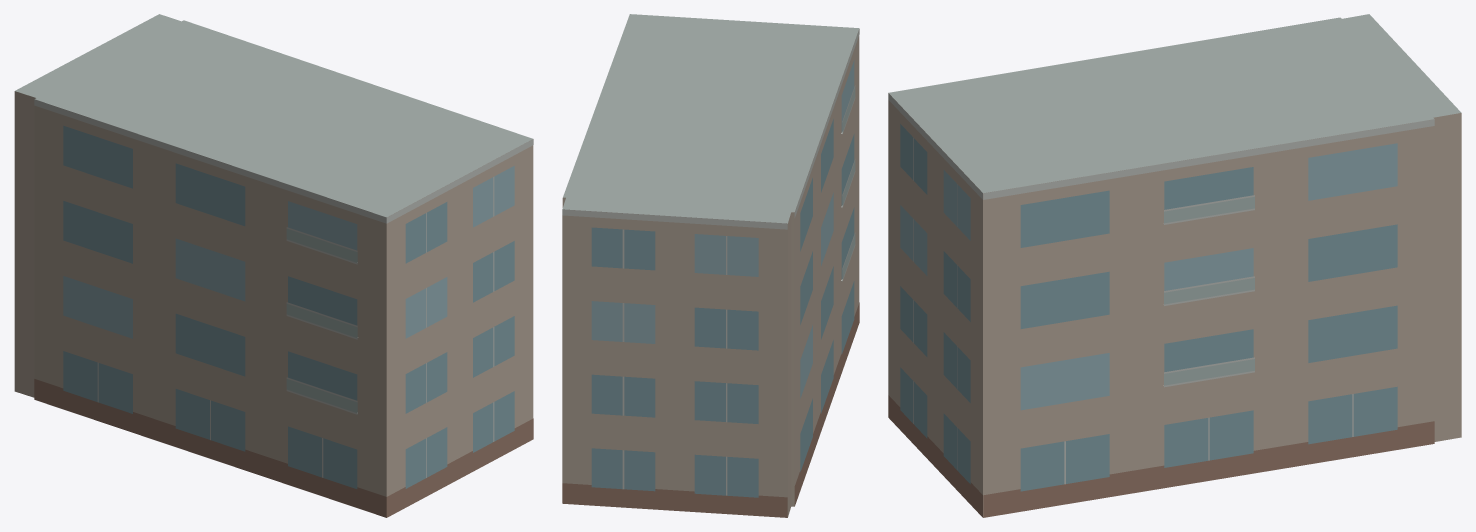
Rendered from survey-upis-33008063.glb.
3 views of the same model, side by side, from view 1: azimuth 30°, elevation 25°; view 2: azimuth 150°, elevation 25°; view 3: azimuth 270°, elevation 25° (orthographic). The views are drawn at different scales.
Parts seen in each view (by area): view 1: survey-upis-33008063.tmp; view 2: survey-upis-33008063.tmp; view 3: survey-upis-33008063.tmp.
Boxes of the visible parts, <box> form: survey-upis-33008063.tmp: <box>14,14,533,517</box>; survey-upis-33008063.tmp: <box>562,14,859,517</box>; survey-upis-33008063.tmp: <box>888,14,1461,517</box>.
Bounding box in the file's own units: 13.86 × 11.7 × 18.74.
